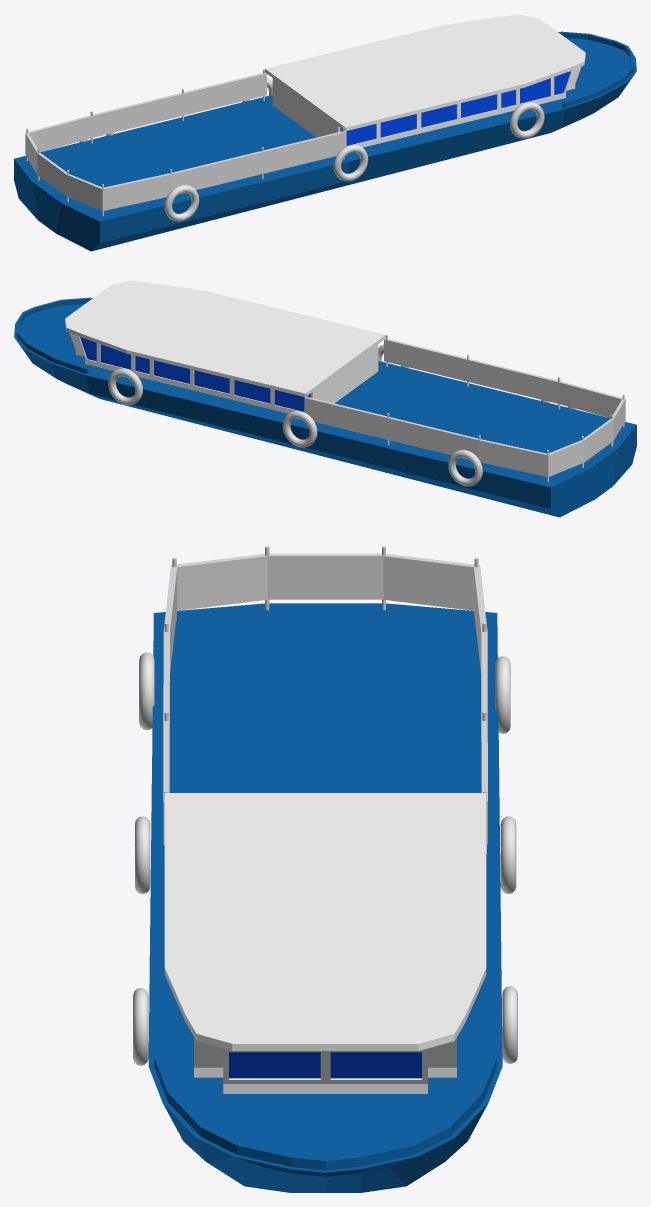
Rendered from teplohod _m4.fbx.
3 renders of one model, top to bottom at view 1: azimuth 30°, elevation 25°; view 2: azimuth 150°, elevation 25°; view 3: azimuth 270°, elevation 25°, orthographic. The views are drawn at different scales.
Visible parts, largest first — view 1: corpus, roof, zabor, cabina, Тор.004, Тор.006, Тор.003; view 2: corpus, roof, zabor, cabina, Тор, Тор.002, Тор.001; view 3: corpus, roof, zabor, cabina, Тор, Тор.001, Тор.003, Тор.006, Тор.004, Тор.002.
Boxes of the visible parts, x1,y1,x2,y2 form: corpus: (14,31,636,251); roof: (265,14,585,131); zabor: (25,72,346,211); cabina: (272,66,581,147); Тор.004: (164,185,199,221); Тор.006: (333,144,368,181); Тор.003: (510,102,544,138); corpus: (14,297,636,517); roof: (65,280,385,397); zabor: (304,338,625,477); cabina: (69,332,378,413); Тор: (282,410,317,447); Тор.002: (448,449,482,486); Тор.001: (108,368,142,405); corpus: (148,603,502,1192); roof: (164,793,486,1050); zabor: (163,553,487,844); cabina: (194,1037,456,1093); Тор: (500,816,516,893); Тор.001: (502,986,517,1063); Тор.003: (133,988,148,1065); Тор.006: (135,816,150,893); Тор.004: (139,652,154,730); Тор.002: (495,656,510,733).
Bounding box in the file's own units: 3887 × 419 × 1110.
